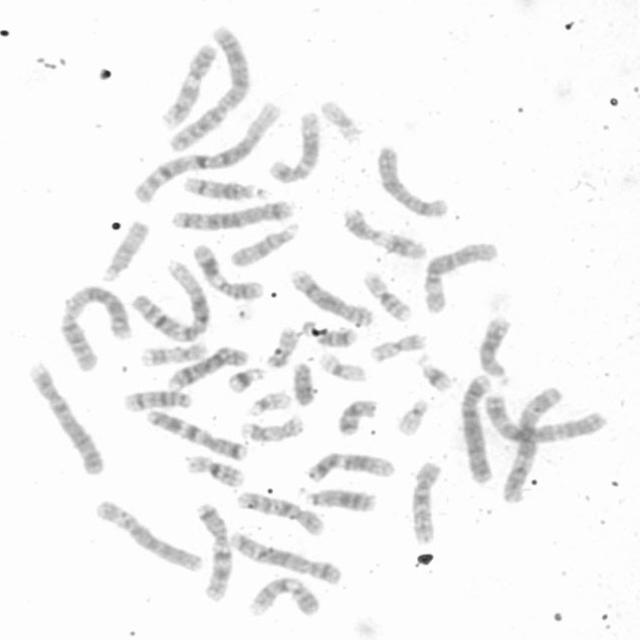A1: (127, 96, 284, 205), (127, 256, 213, 343)
A2: (162, 21, 253, 153), (54, 282, 133, 374)
A3: (498, 381, 564, 505), (479, 389, 609, 444)
B4: (23, 358, 107, 477), (456, 369, 497, 484)
B5: (226, 527, 344, 585), (168, 195, 296, 231)
C10: (232, 486, 327, 537), (405, 455, 444, 546)
C11: (338, 204, 430, 261), (187, 240, 264, 302)
C12: (265, 106, 324, 185), (303, 447, 399, 483)
C6: (90, 494, 206, 574), (419, 238, 500, 315)
C7: (142, 405, 251, 462), (191, 498, 234, 604)
C8: (287, 265, 376, 328), (164, 342, 251, 391)
C9: (156, 39, 219, 129), (243, 573, 322, 619)
D13: (474, 311, 514, 386), (297, 482, 379, 514)
D14: (178, 171, 273, 202), (120, 385, 194, 413)
D15: (226, 218, 302, 268), (97, 216, 150, 282)
E16: (358, 268, 414, 323), (180, 450, 247, 489)
E17: (136, 337, 210, 368), (237, 412, 306, 444)
E18: (334, 394, 381, 437), (299, 316, 358, 348)
F19: (316, 94, 364, 146), (315, 349, 369, 383)
F20: (366, 328, 429, 363), (262, 322, 300, 370)
G21: (413, 350, 455, 393), (223, 362, 268, 394)
G22: (392, 393, 431, 437), (245, 386, 292, 417)
X: (374, 141, 452, 219)
Y: (288, 358, 318, 407)
